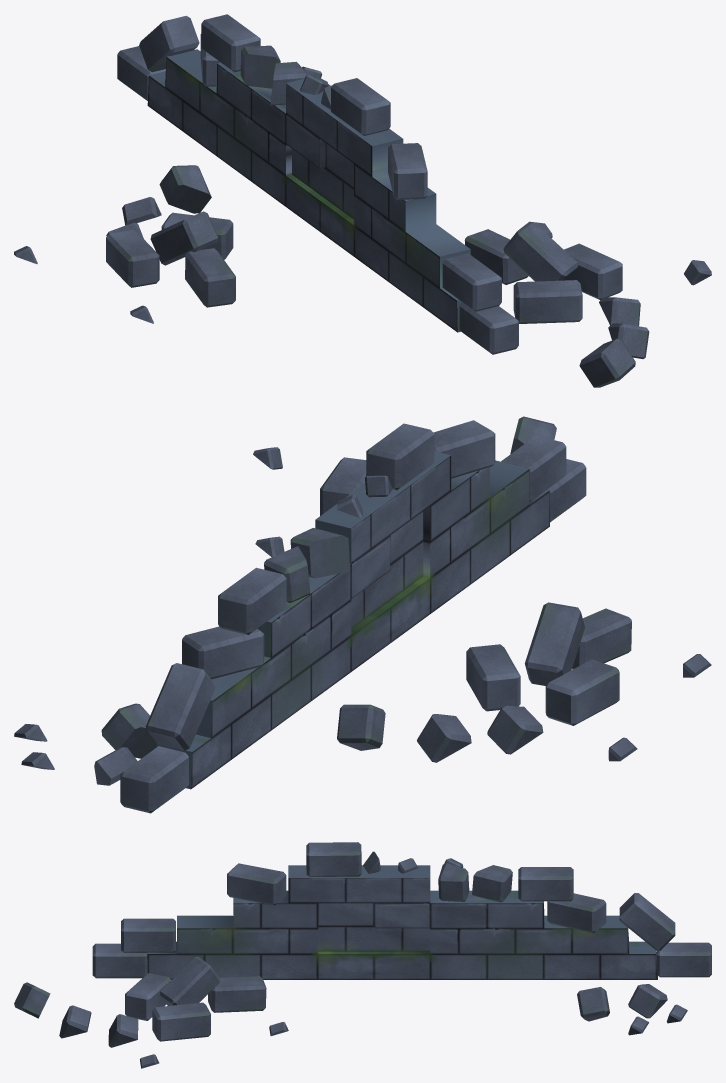
Rendered from wall_low.obj.
The picture shows the model from 3 angles, top to bottom: view 1: azimuth 30°, elevation 25°; view 2: azimuth 150°, elevation 25°; view 3: azimuth 270°, elevation 25°; orthographic projection. The views are drawn at different scales.
Visible parts, largest first — view 1: Bricks9_Estructura1_0, Wall9_Estructura1_0; view 2: Bricks9_Estructura1_0, Wall9_Estructura1_0; view 3: Wall9_Estructura1_0, Bricks9_Estructura1_0.
Boxes of the visible parts, x1,y1,x2,y2 form: Bricks9_Estructura1_0: [14, 14, 711, 387]; Wall9_Estructura1_0: [147, 49, 470, 332]; Bricks9_Estructura1_0: [14, 416, 711, 813]; Wall9_Estructura1_0: [156, 451, 549, 789]; Wall9_Estructura1_0: [147, 865, 657, 979]; Bricks9_Estructura1_0: [14, 842, 711, 1068].
Bounding box in the file's own units: 1.71 × 0.5766 × 2.47.
